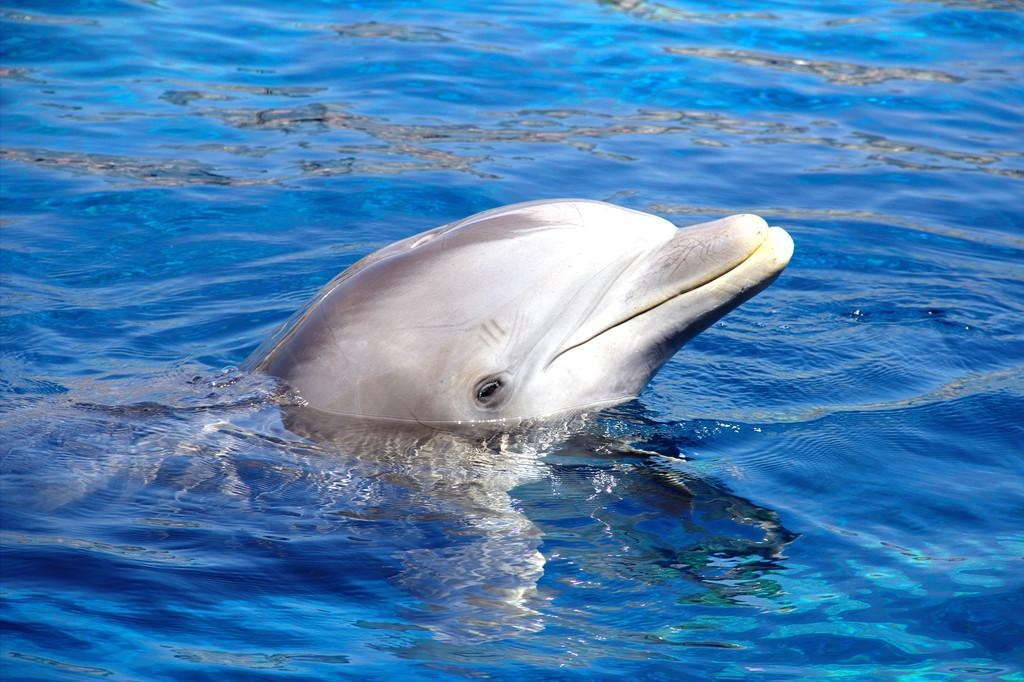fish: (12, 198, 795, 533)
